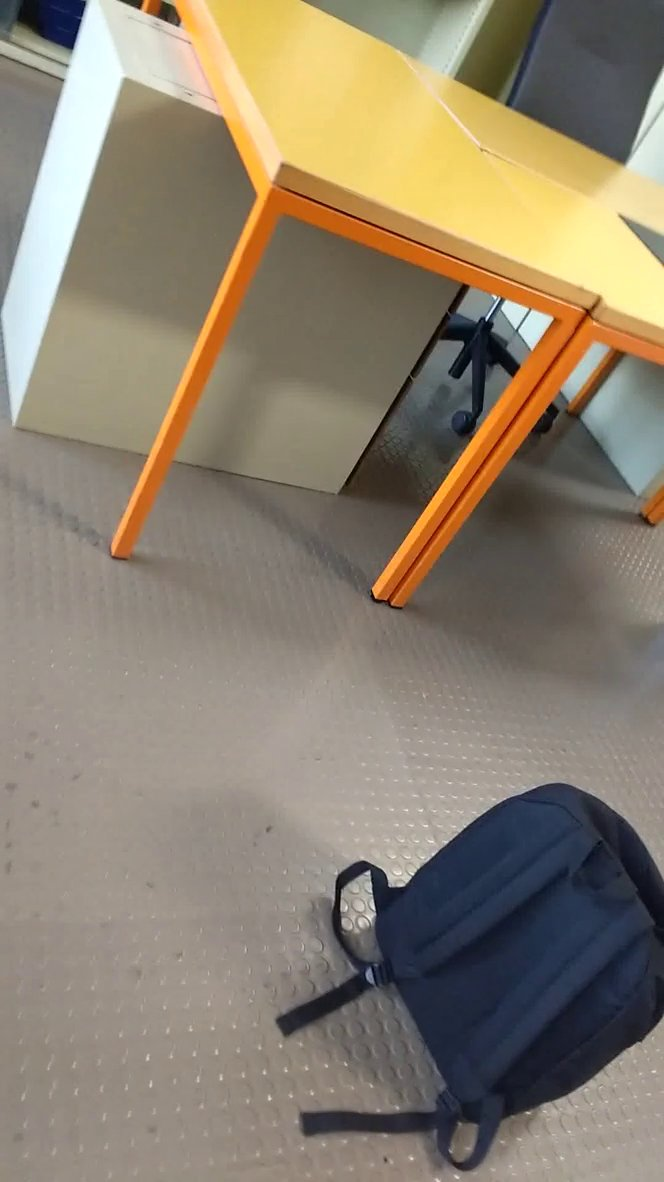bag: (271, 770, 664, 1177)
